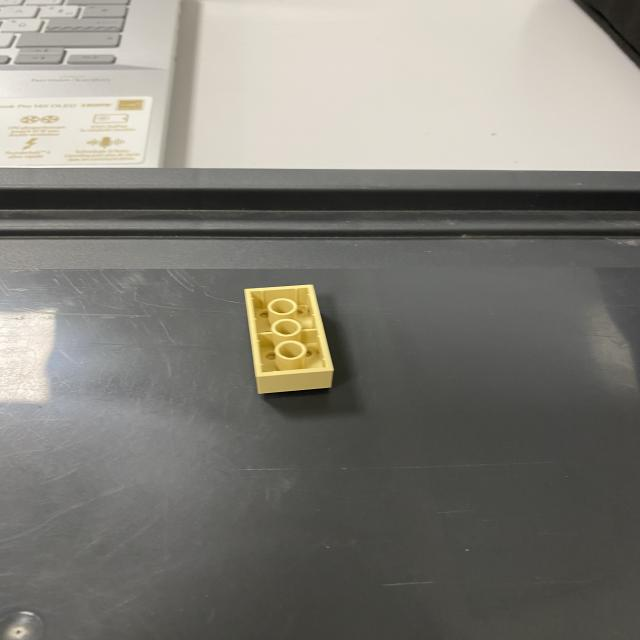C4x2x1: (240, 284, 333, 395)
